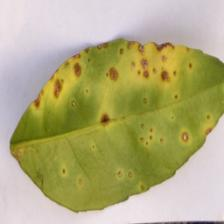canker: (19, 28, 198, 178)
